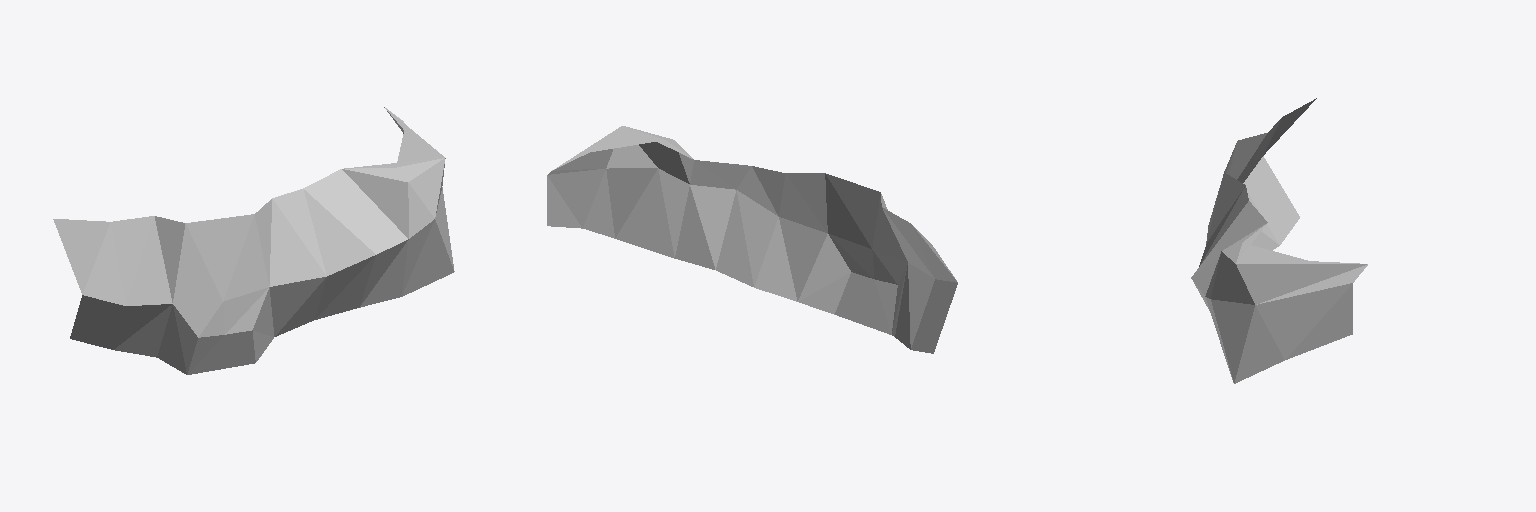
File: mLv1Mountain13.obj
The picture shows the model from 3 angles: view 1: azimuth 30°, elevation 25°; view 2: azimuth 150°, elevation 25°; view 3: azimuth 270°, elevation 25°; orthographic projection.
Visible parts, largest first — view 1: mMountain011; view 2: mMountain011; view 3: mMountain011.
Boxes of the visible parts, x1=… form: mMountain011: x1=53, y1=107, x2=454, y2=374; mMountain011: x1=547, y1=126, x2=957, y2=353; mMountain011: x1=1191, y1=98, x2=1367, y2=383.
Size of the model in its own units: 53.89 by 21.2 by 22.53.